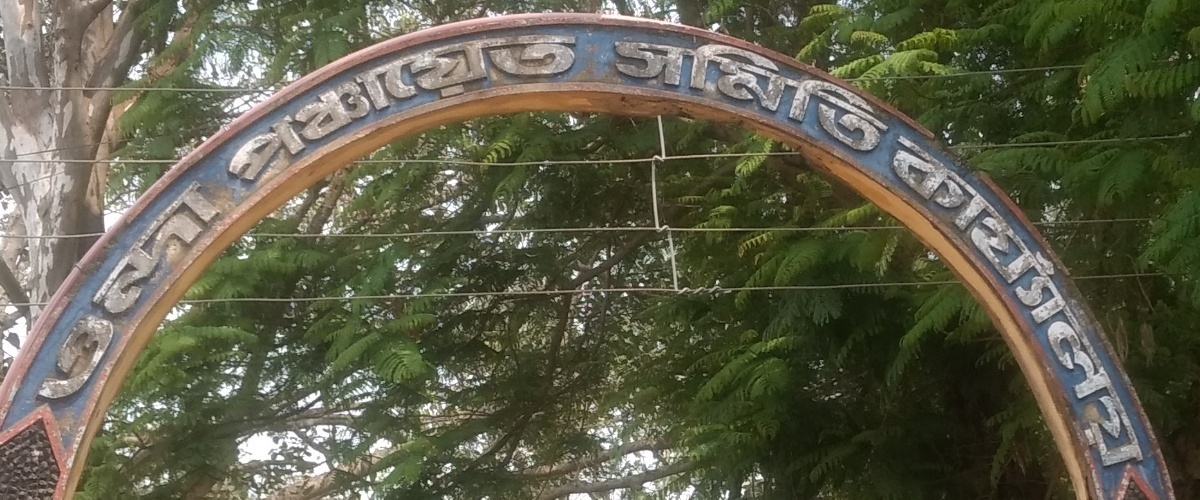text: (945, 103, 960, 482), (961, 103, 976, 482), (977, 103, 992, 482), (993, 103, 1008, 482), (1009, 103, 1024, 482), (1025, 103, 1040, 482), (1041, 103, 1056, 482), (1057, 103, 1072, 482), (1073, 103, 1088, 482), (1089, 103, 1104, 482), (1105, 103, 1120, 482), (1121, 103, 1136, 482), (1137, 103, 1152, 482), (1153, 103, 1168, 482), (1169, 103, 1184, 482), (33, 166, 48, 415), (49, 166, 64, 415), (65, 166, 80, 415), (81, 166, 96, 415), (97, 166, 112, 415), (113, 166, 128, 415), (129, 166, 144, 415), (145, 166, 160, 415), (161, 166, 176, 415), (177, 166, 192, 415), (193, 166, 208, 415), (209, 166, 224, 415), (20, 166, 32, 415), (209, 2, 224, 190), (225, 2, 240, 190), (241, 2, 256, 190), (257, 2, 272, 190), (273, 2, 288, 190), (289, 2, 304, 190), (305, 2, 320, 190), (321, 2, 336, 190), (337, 2, 352, 190), (353, 2, 368, 190), (369, 2, 384, 190), (385, 2, 400, 190), (401, 2, 416, 190), (417, 2, 432, 190), (433, 2, 448, 190), (449, 2, 464, 190), (465, 2, 480, 190), (481, 2, 496, 190), (497, 2, 512, 190), (513, 2, 528, 190), (529, 2, 544, 190), (545, 2, 560, 190), (561, 2, 576, 190), (625, 15, 640, 160), (641, 15, 656, 160), (657, 15, 672, 160), (673, 15, 688, 160), (689, 15, 704, 160), (705, 15, 720, 160), (721, 15, 736, 160), (737, 15, 752, 160), (753, 15, 768, 160), (769, 15, 784, 160), (785, 15, 800, 160), (801, 15, 816, 160), (817, 15, 832, 160), (833, 15, 848, 160), (849, 15, 864, 160), (865, 15, 880, 160), (881, 15, 896, 160), (897, 15, 912, 160), (913, 15, 927, 160), (611, 15, 624, 160), (198, 2, 208, 190), (577, 2, 584, 190), (225, 166, 230, 415), (942, 103, 944, 482), (1185, 103, 1186, 482)
